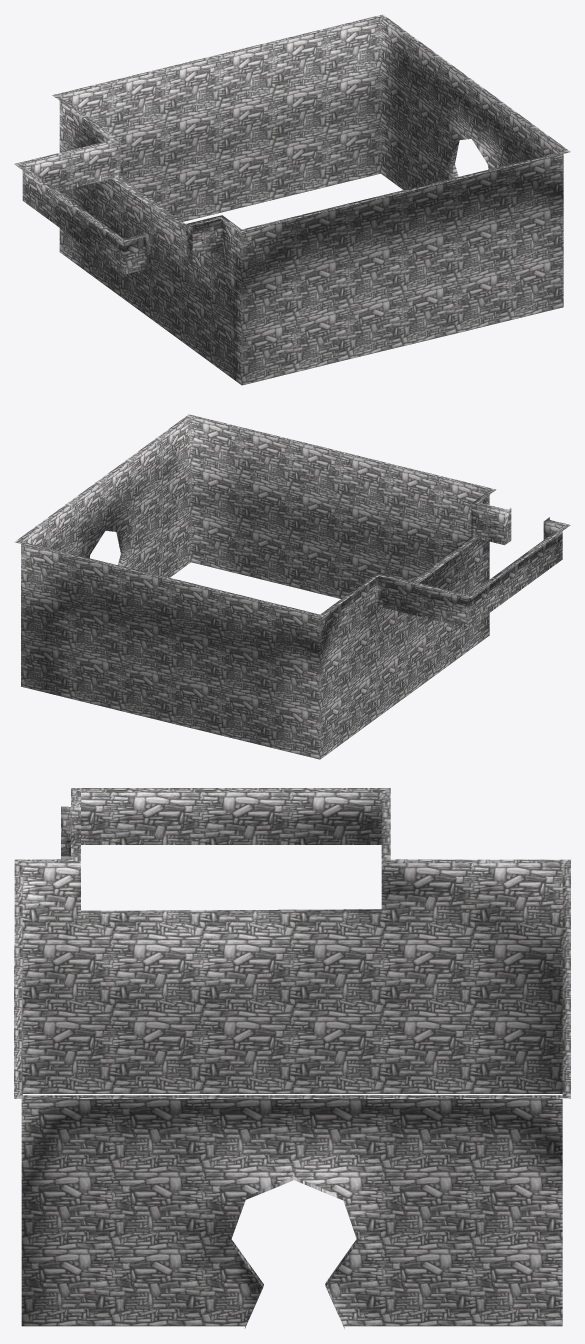
Rendered from HTOWN01_MILLBASEINT.fbx.
3 views of the same model, one above another, from view 1: azimuth 30°, elevation 25°; view 2: azimuth 150°, elevation 25°; view 3: azimuth 270°, elevation 25° (orthographic). The views are drawn at different scales.
Parts seen in each view (by area): view 1: HTOWN01_MILLBASEINT; view 2: HTOWN01_MILLBASEINT; view 3: HTOWN01_MILLBASEINT.
Part boxes in pixels (x1,y1,x2,y2): HTOWN01_MILLBASEINT: [14, 14, 570, 385]; HTOWN01_MILLBASEINT: [14, 414, 570, 759]; HTOWN01_MILLBASEINT: [14, 788, 570, 1328].
Size of the model in its own units: 169230 by 58653 by 128155.
1 material, 1 textured.
